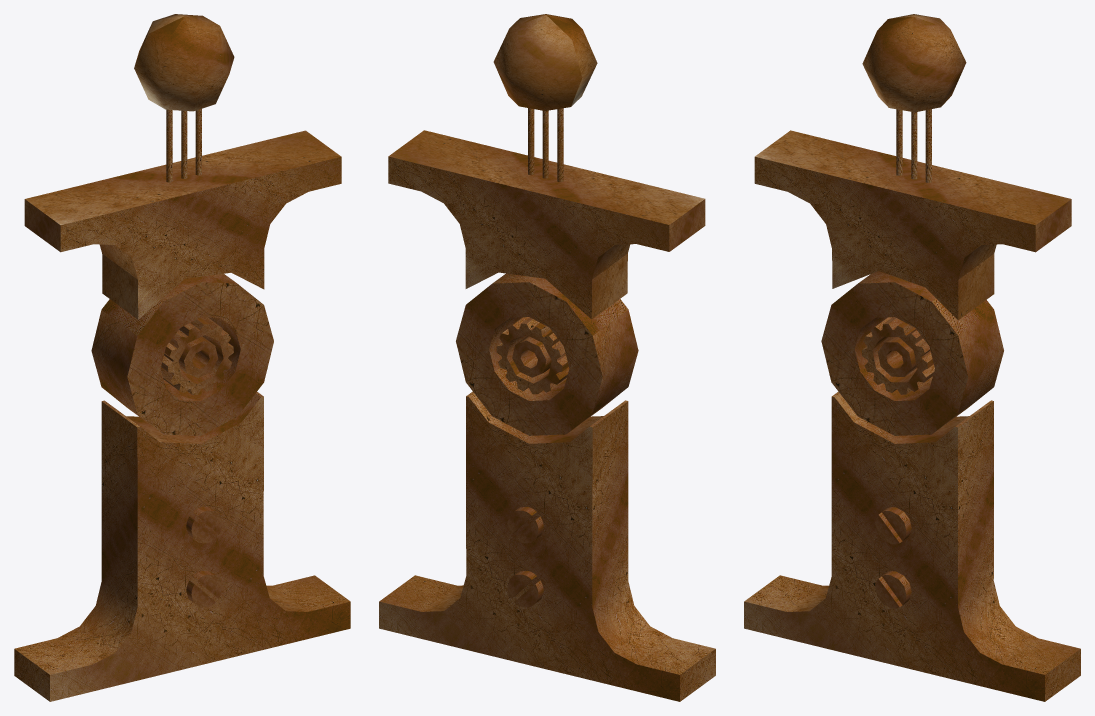
3 renders of one model, left to right at view 1: azimuth 30°, elevation 25°; view 2: azimuth 150°, elevation 25°; view 3: azimuth 330°, elevation 25°, orthographic.
Visible parts, largest first — view 1: I, Sphere_055, Cogwheel_260, Screw_820, Screw_817; view 2: I, Sphere_055, Cogwheel_260, Screw_820, Screw_817; view 3: I, Sphere_055, Cogwheel_260, Screw_820, Screw_817.
Boxes of the visible parts, box(x1,y1,x2,y2) form: I: box(14, 130, 350, 701); Sphere_055: box(134, 14, 234, 111); Cogwheel_260: box(160, 317, 233, 394); Screw_820: box(186, 571, 222, 607); Screw_817: box(186, 507, 222, 543); I: box(379, 130, 715, 701); Sphere_055: box(493, 14, 597, 110); Cogwheel_260: box(496, 317, 569, 394); Screw_820: box(507, 571, 543, 607); Screw_817: box(507, 507, 543, 543); I: box(744, 130, 1080, 701); Sphere_055: box(862, 14, 966, 112); Cogwheel_260: box(861, 317, 934, 394); Screw_820: box(875, 571, 911, 608); Screw_817: box(875, 507, 911, 544).
Bounding box in the file's own units: 48.41 × 97.86 × 14.01.
1 material, 1 textured.
